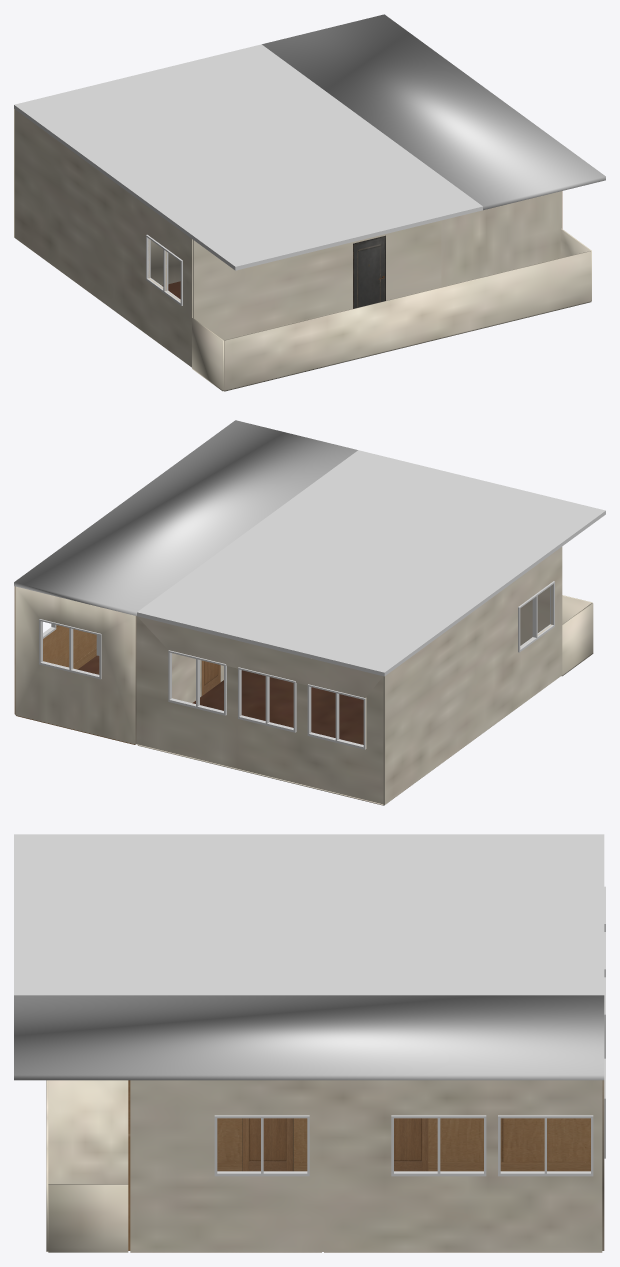
The model's file is home.fbx.
3 renders of one model, top to bottom at view 1: azimuth 30°, elevation 25°; view 2: azimuth 150°, elevation 25°; view 3: azimuth 270°, elevation 25°, orthographic. The views are drawn at different scales.
Visible parts, largest first — view 1: Ceiling, Room, Room.001, Front door, windows; view 2: Ceiling, Room, Room.001, Floor, windows, door; view 3: Ceiling, Room.001, Room, windows, door.002, door.
Part boxes in pixels (<box>): Ceiling: <box>14,14,605,270</box>; Room: <box>14,109,591,391</box>; Room.001: <box>441,191,562,287</box>; Front door: <box>353,235,385,308</box>; windows: <box>146,234,182,305</box>; Ceiling: <box>14,420,605,676</box>; Room: <box>136,547,593,805</box>; Room.001: <box>14,586,223,744</box>; Floor: <box>78,655,363,744</box>; windows: <box>39,581,554,749</box>; door: <box>201,660,220,695</box>; Ceiling: <box>14,834,604,1080</box>; Room.001: <box>128,1080,604,1252</box>; Room: <box>46,1080,128,1252</box>; windows: <box>214,886,605,1176</box>; door.002: <box>242,1118,293,1171</box>; door: <box>394,1118,428,1171</box>.
Bounding box in the file's own units: 910 × 312 × 938.
Materials: 8 (7 with a texture image).
